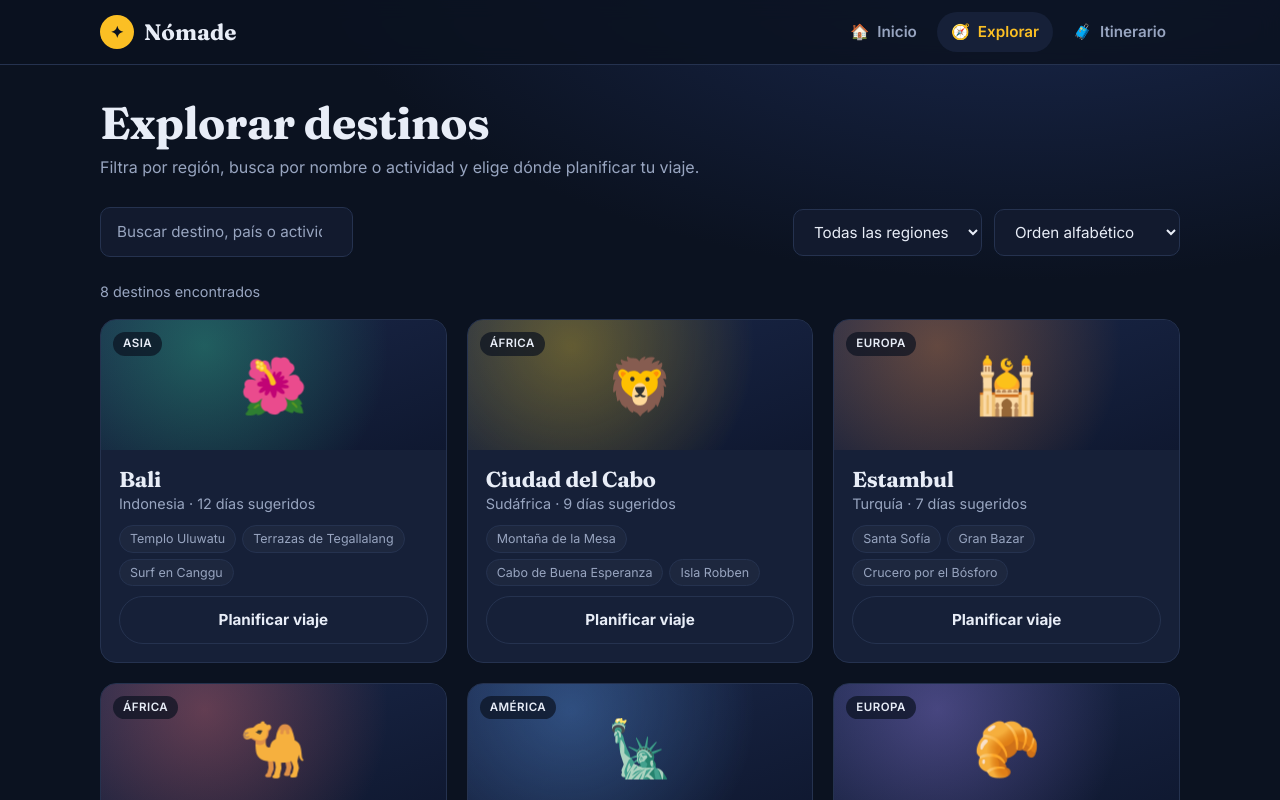
Test: API REST mock: destinos › filtra por región (petición REST con parámetro) y por texto
Select "Europa" in the dropdown named "Región" at {"x": 888, "y": 232}, box 793,209 -> 982,256
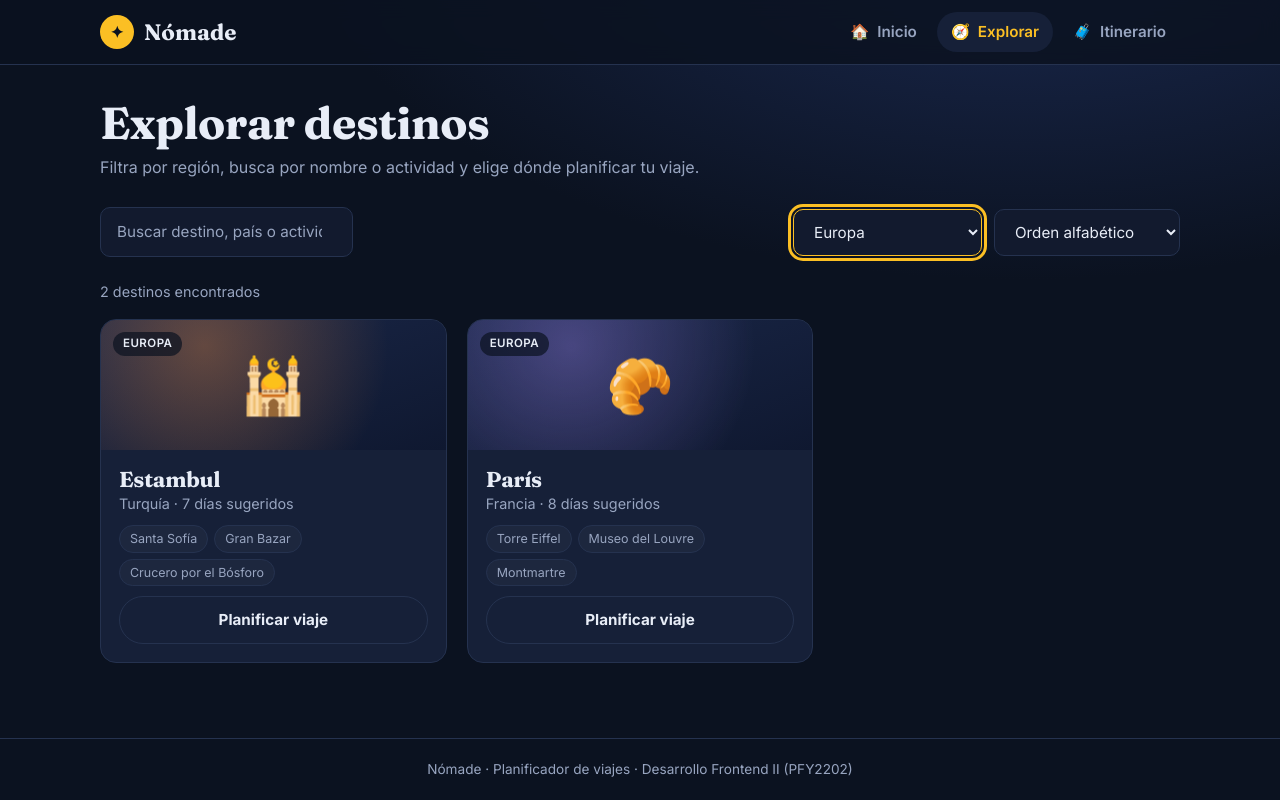
Expected: the heading "París" is shown, 486,466 -> 542,493
Expected: the text "2 destinos encontrados" is shown, 100,283 -> 260,300
Type "bazar" into the search field labelled "Buscar destino, país o actividad…" at {"x": 226, "y": 232}, box 100,207 -> 353,257
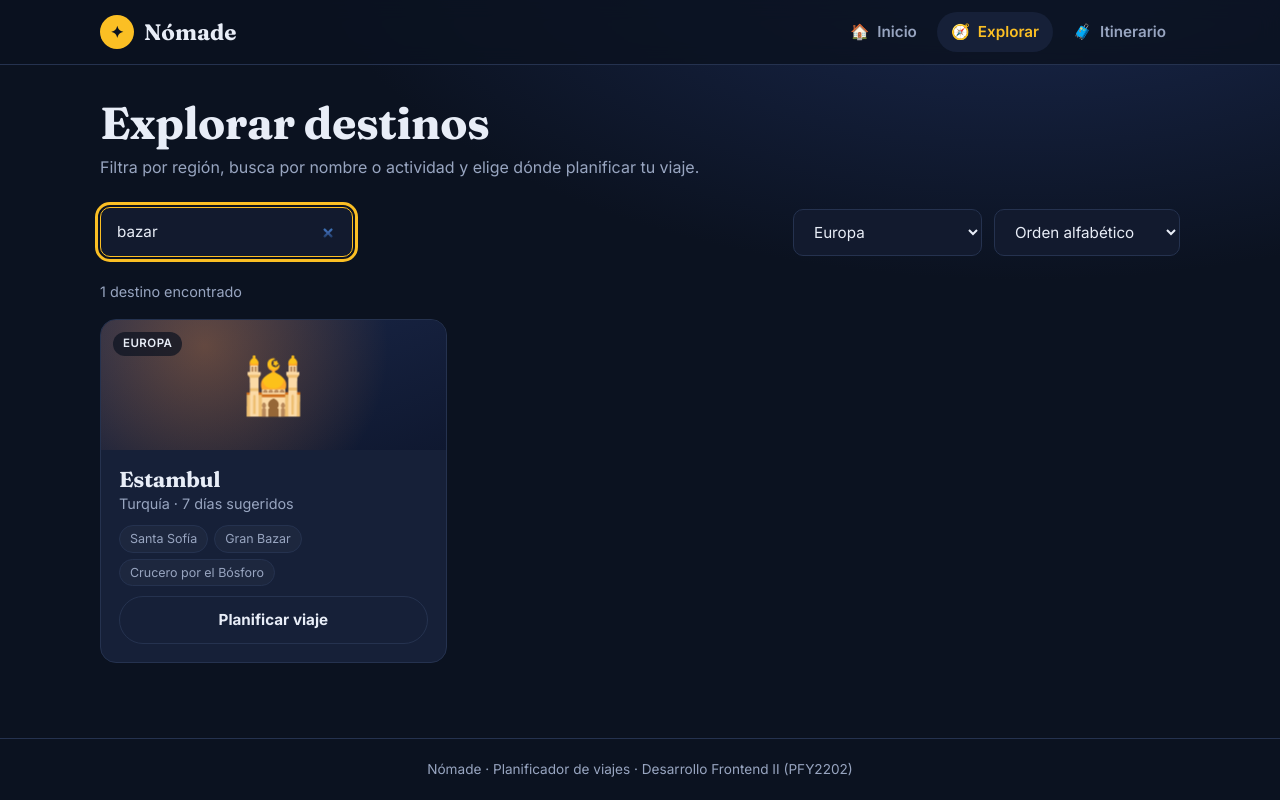
Expected: the heading "Estambul" is shown, 119,466 -> 220,493
Expected: the text "1 destino encontrado" is shown, 100,283 -> 242,300
